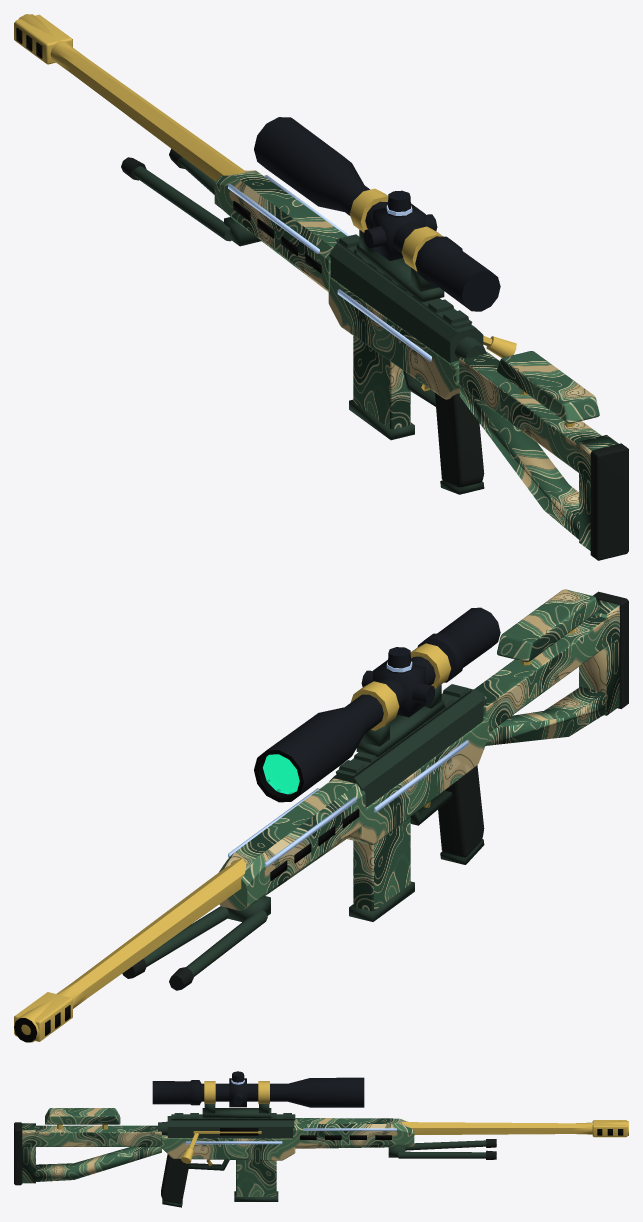
The model's file is weapon_longbow_308.glb.
3 views of the same model, one above another, from view 1: azimuth 30°, elevation 25°; view 2: azimuth 150°, elevation 25°; view 3: azimuth 270°, elevation 25° (orthographic). The views are drawn at different scales.
Parts seen in each view (by area): view 1: Longbow308; view 2: Longbow308; view 3: Longbow308.
Part boxes in pixels (x1,y1,x2,y2): Longbow308: (14, 14, 628, 560); Longbow308: (14, 589, 628, 1042); Longbow308: (14, 1071, 628, 1207).
Bounding box in the file's own units: 0.1148 × 0.2766 × 1.18.
Materials: 10 (1 with a texture image).
